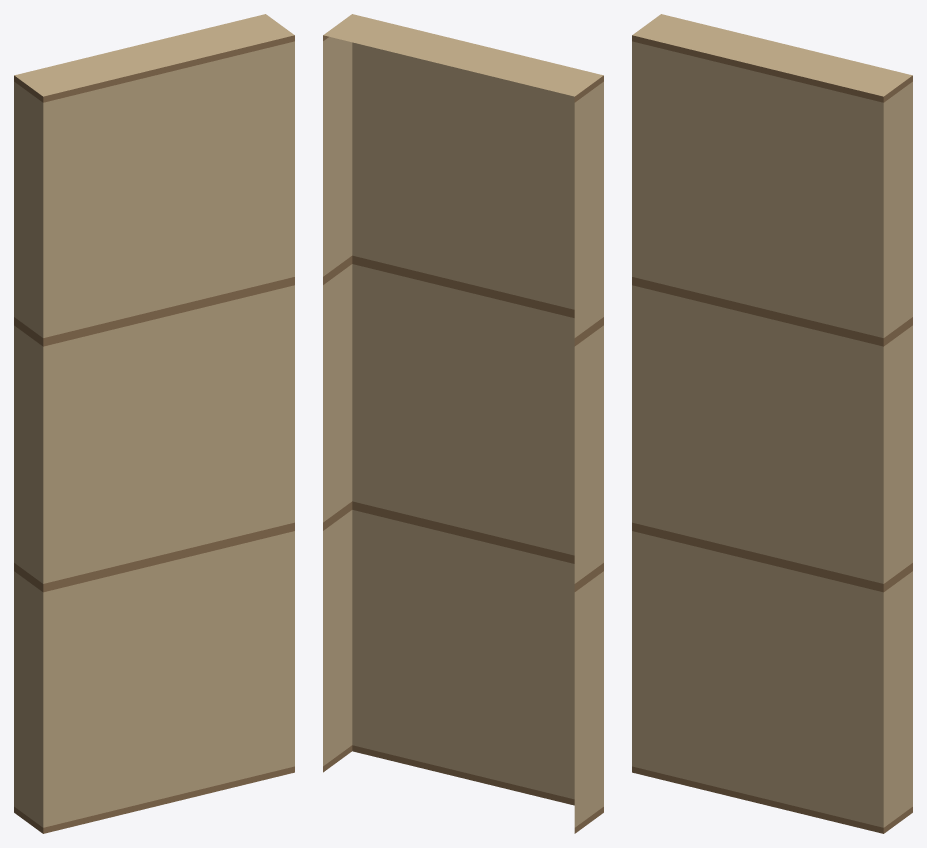
File: M_WallTile125-1Biege80.FBX
The picture shows the model from 3 angles, left to right: view 1: azimuth 30°, elevation 25°; view 2: azimuth 150°, elevation 25°; view 3: azimuth 330°, elevation 25°; orthographic projection.
Visible parts, largest first — view 1: M_WallTile125-1Biege80; view 2: M_WallTile125-1Biege80; view 3: M_WallTile125-1Biege80.
Boxes of the visible parts, <box> form: M_WallTile125-1Biege80: <box>14,14,294,833</box>; M_WallTile125-1Biege80: <box>323,14,603,833</box>; M_WallTile125-1Biege80: <box>632,14,912,833</box>.
Size of the model in its own units: 1.25 by 3.5 by 0.25.
